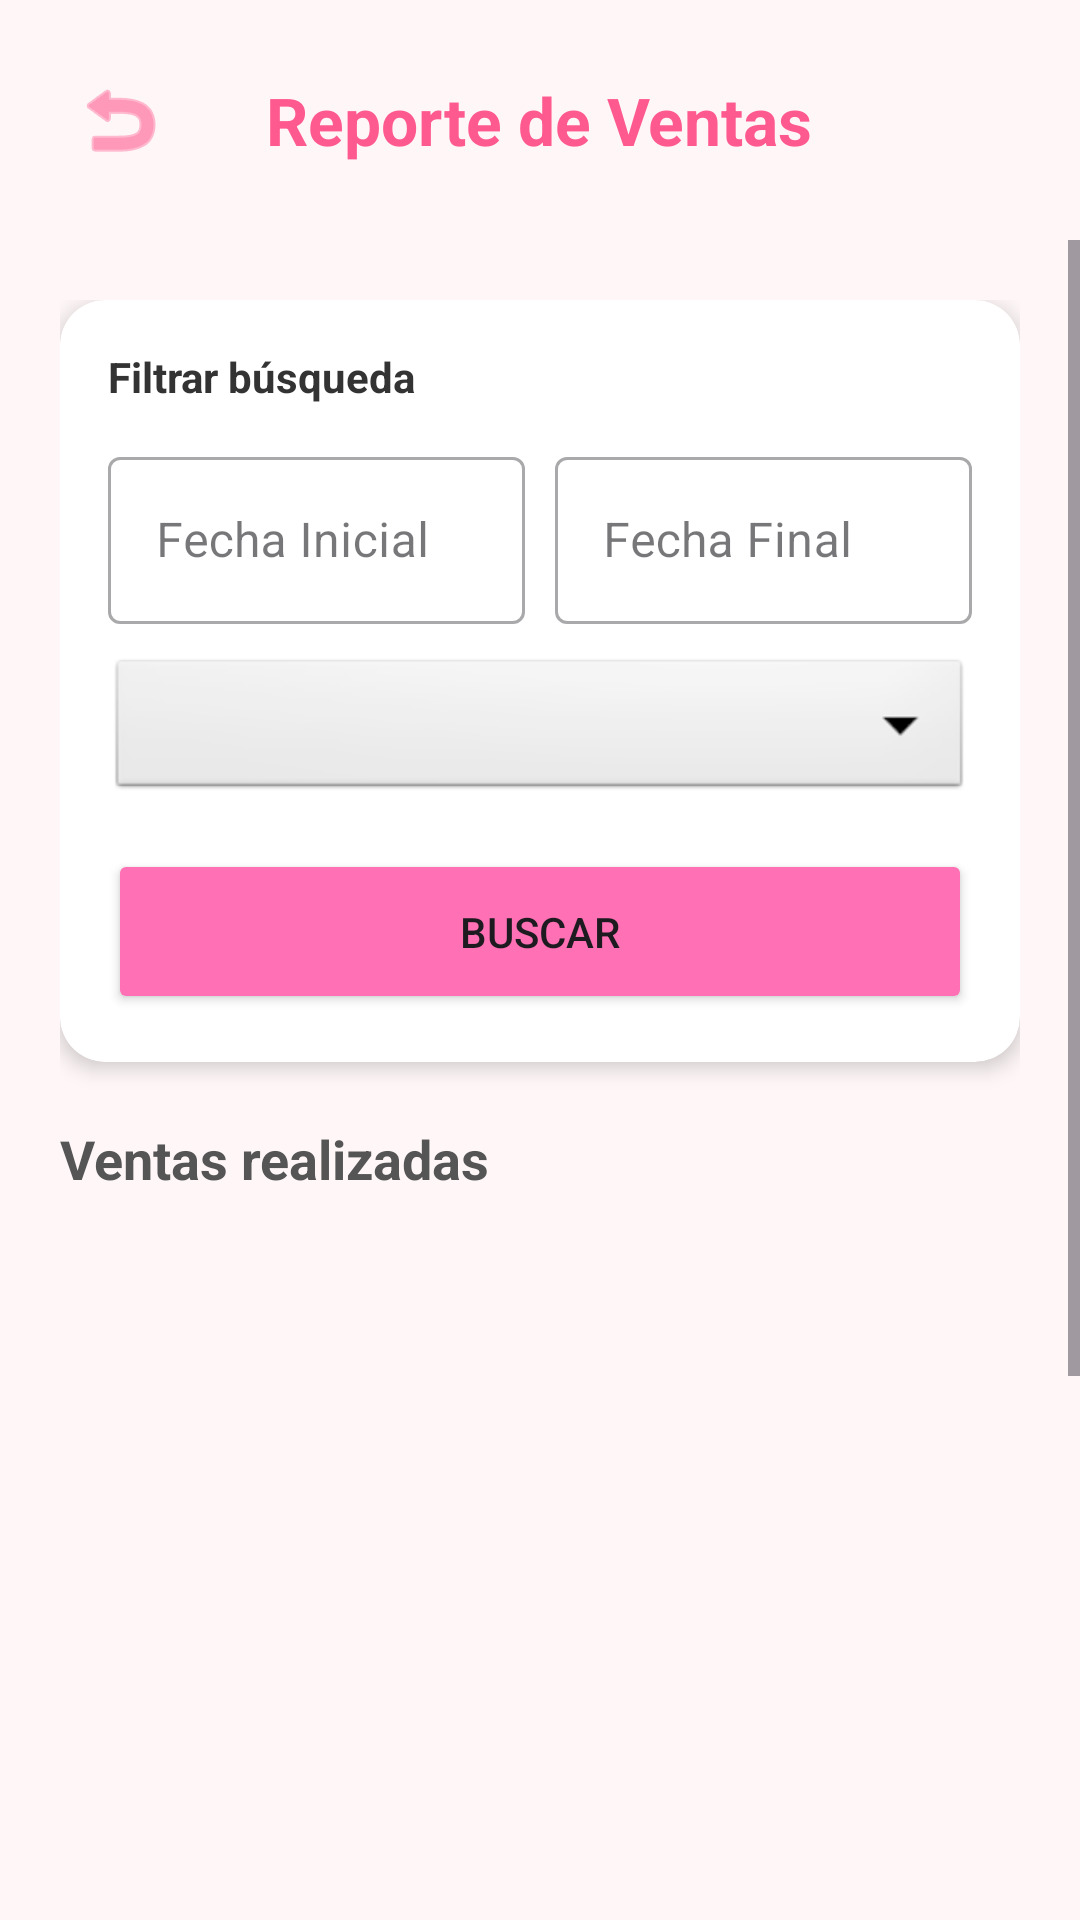

Named icons in this screenshot (1080w x 1920h) and their bounding boxes, (x1, y1, x2, y2):
revert: (87, 90, 156, 152)
